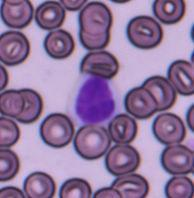L: (66, 72, 122, 127)
